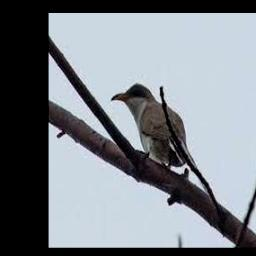Cuckoo: (112, 82, 190, 167)
